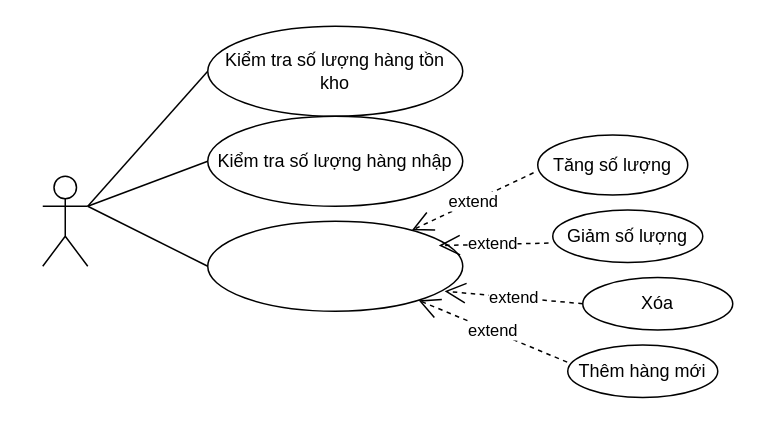
This 759x425 diagram has some shape labels left out. Here are the shapes that lost their labels. From the top down, the centre of each, then its label:
At pixel 64 220: "Cửa hàng".
At pixel 334 265: "Cập nhật số lượng hàng hóa".
